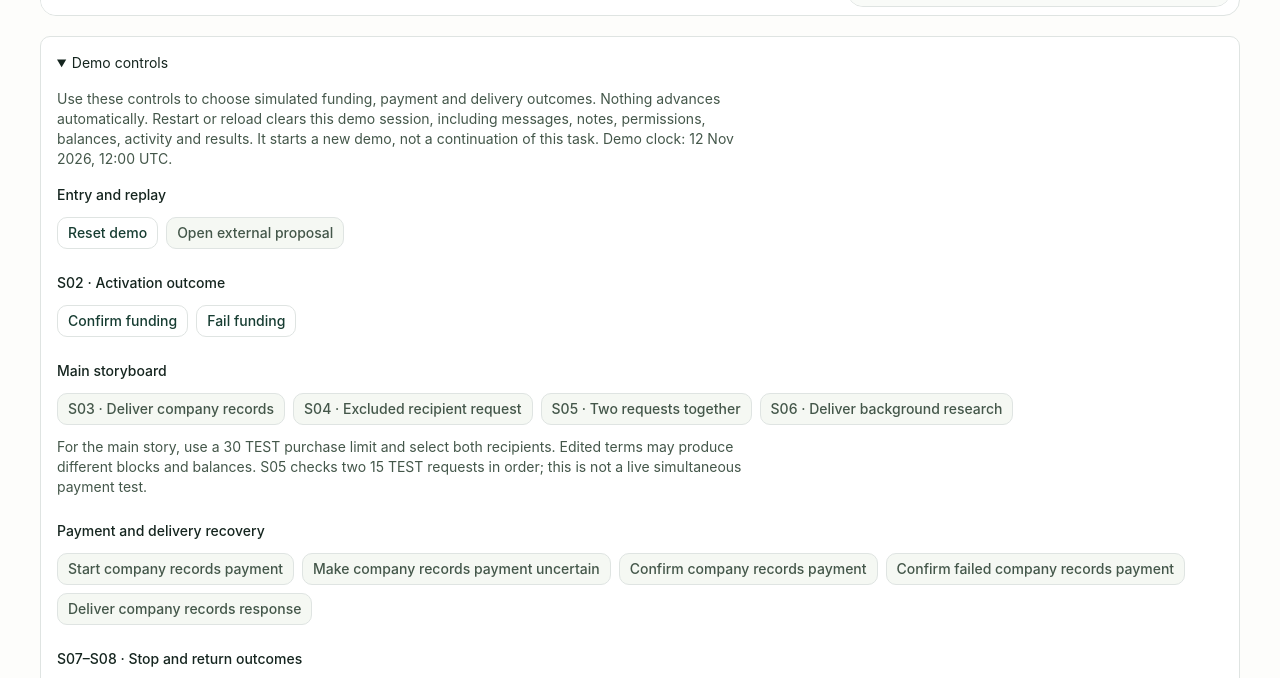
Test: blocked work explains only the refused request and keeps unchanged spending, details, continuation and stop
Earlier steps of the test are not shown.
(page scrolled)
Click the button "Confirm funding" at coordinates (123, 321), box top-left (57, 305), bottom-right (188, 337)
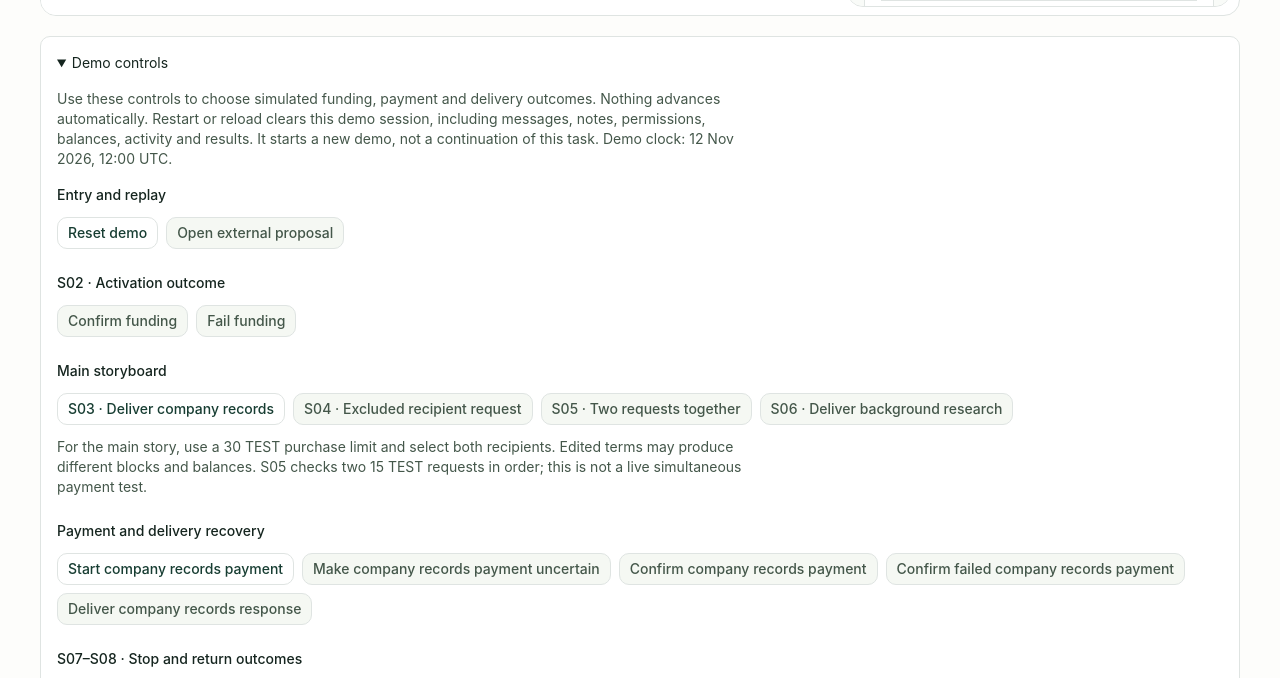
Click the button "S03 · Deliver company records" at coordinates (171, 409), box top-left (57, 393), bottom-right (285, 425)
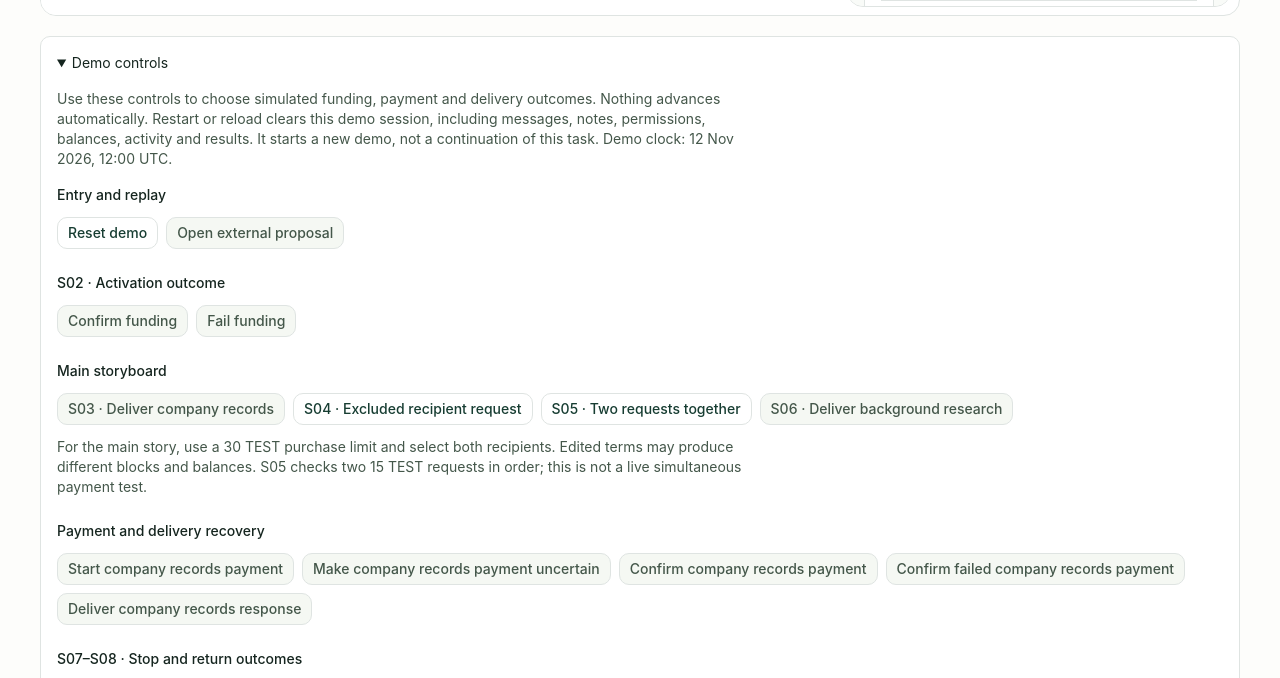
Click the button "S04 · Excluded recipient request" at coordinates (413, 409), box top-left (293, 393), bottom-right (533, 425)
(page scrolled)
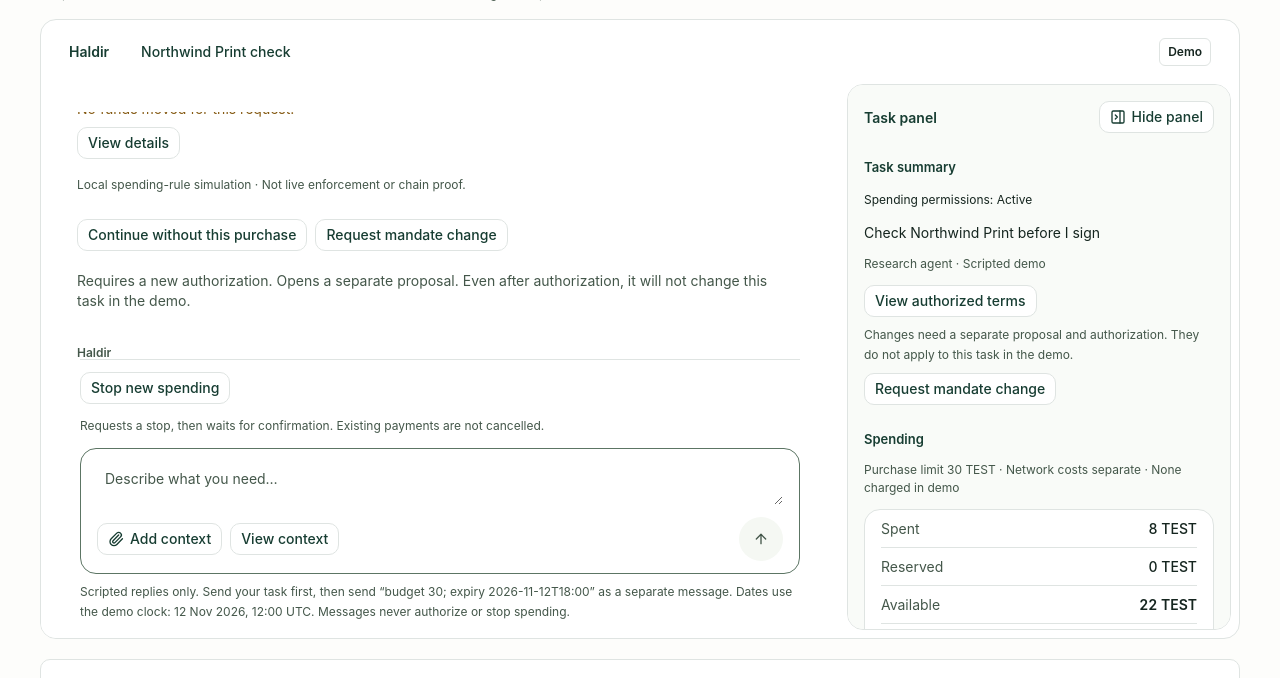
Check: the button "Stop new spending" is enabled, box top-left (80, 372), bottom-right (230, 404)
Check: the button "View details" is enabled, box top-left (77, 127), bottom-right (180, 159)
Click the button "Continue without this purchase" at coordinates (192, 235), box top-left (77, 219), bottom-right (307, 251)
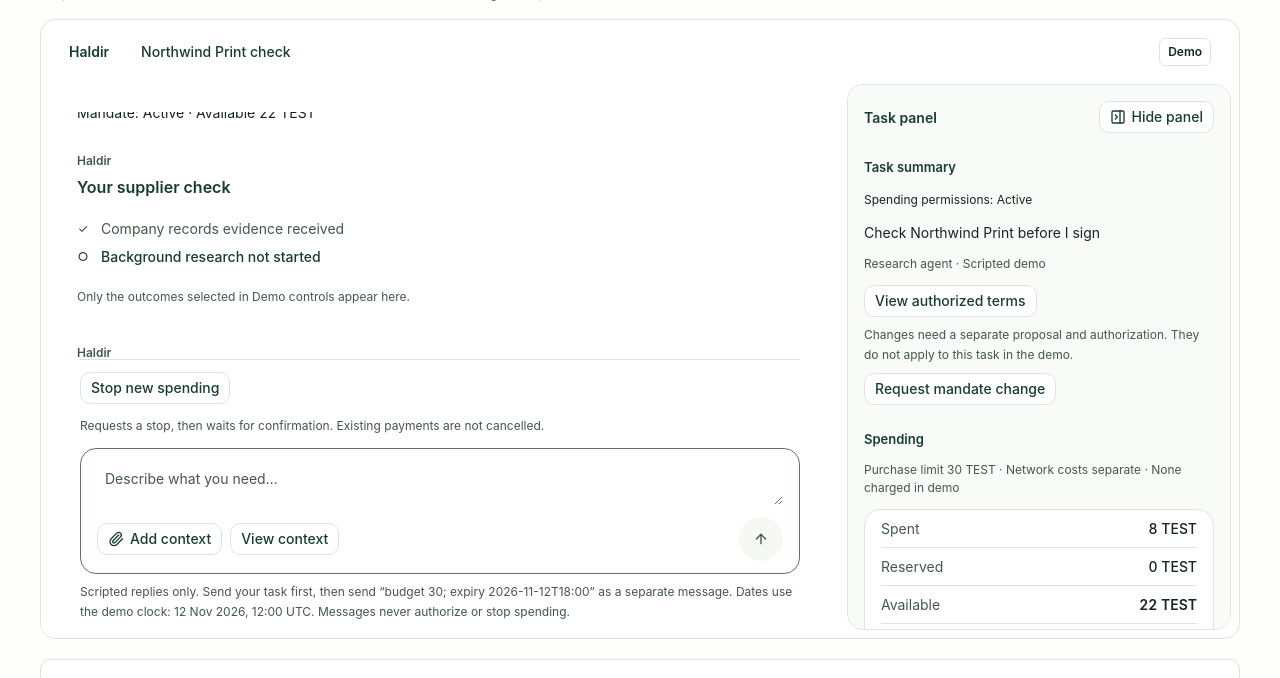
Check: the element named "Agent work" no longer shows "No funds moved for this request.", box top-left (77, 153), bottom-right (410, 304)
Check: the element named "Agent work" shows "Background research not started", box top-left (101, 248), bottom-right (321, 265)
